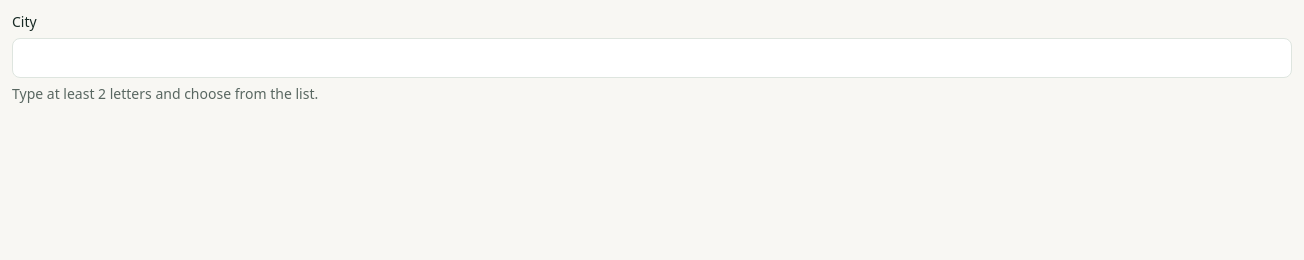
Test: the place picker › shows real places after a pause in typing, and asks only once for a quick burst of typing
In the dropdown labelled "City": (652, 58) [12,38,1292,78], type "pune"
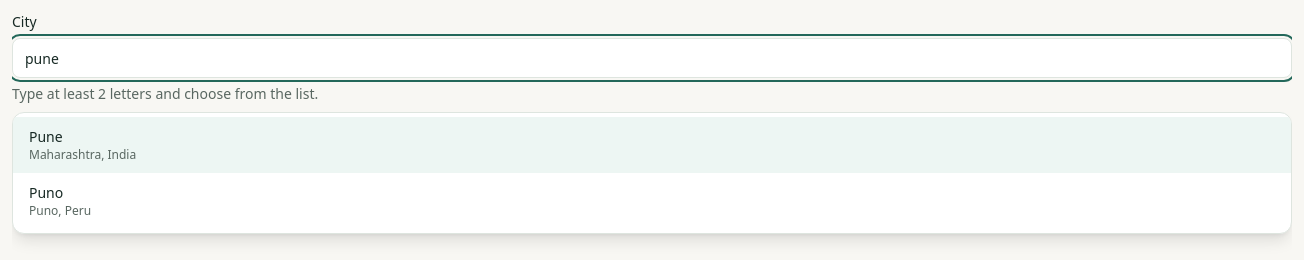
Expected: the option with aria-label "Pune, Maharashtra, India" is shown, [13,117,1291,173]
Expected: the option with aria-label "Puno, Puno, Peru" is shown, [29,183,91,219]
